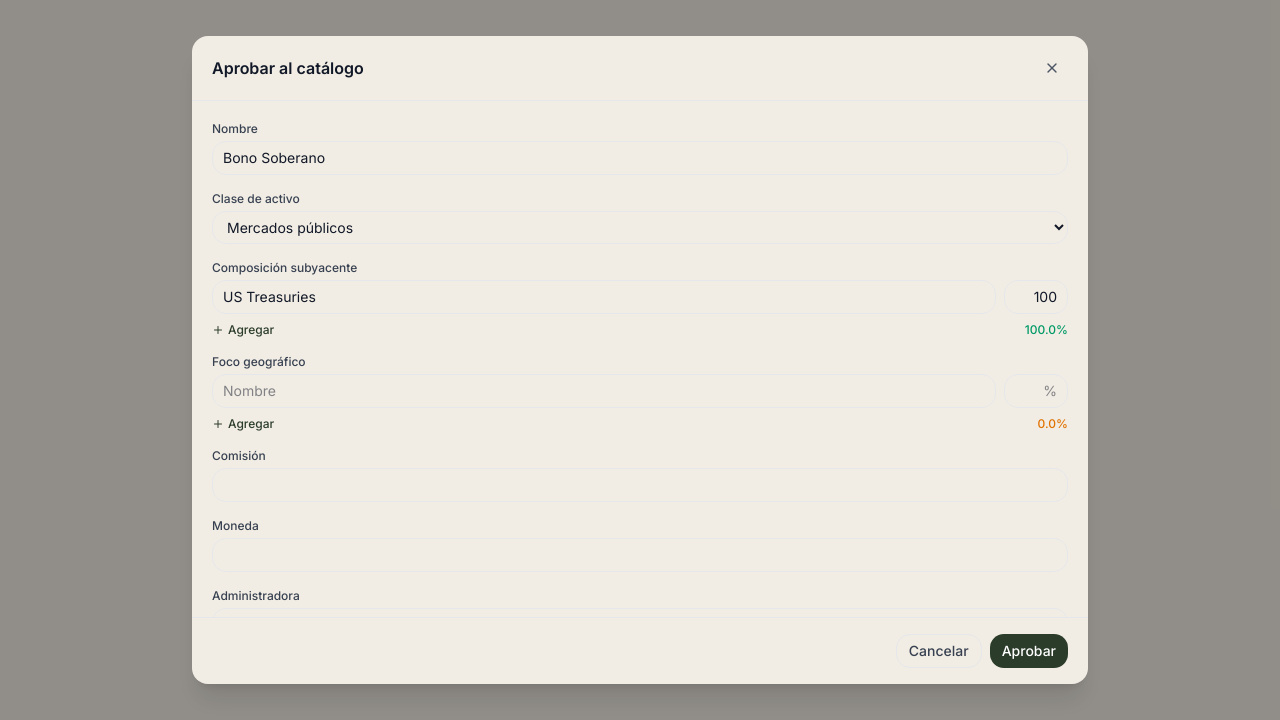
Test case: ApproveProductModal confirm › shows the duplicate message inline on a 409 response
Step 1. Click the button "Aprobar" → (1029, 651), box [990,634,1068,668]
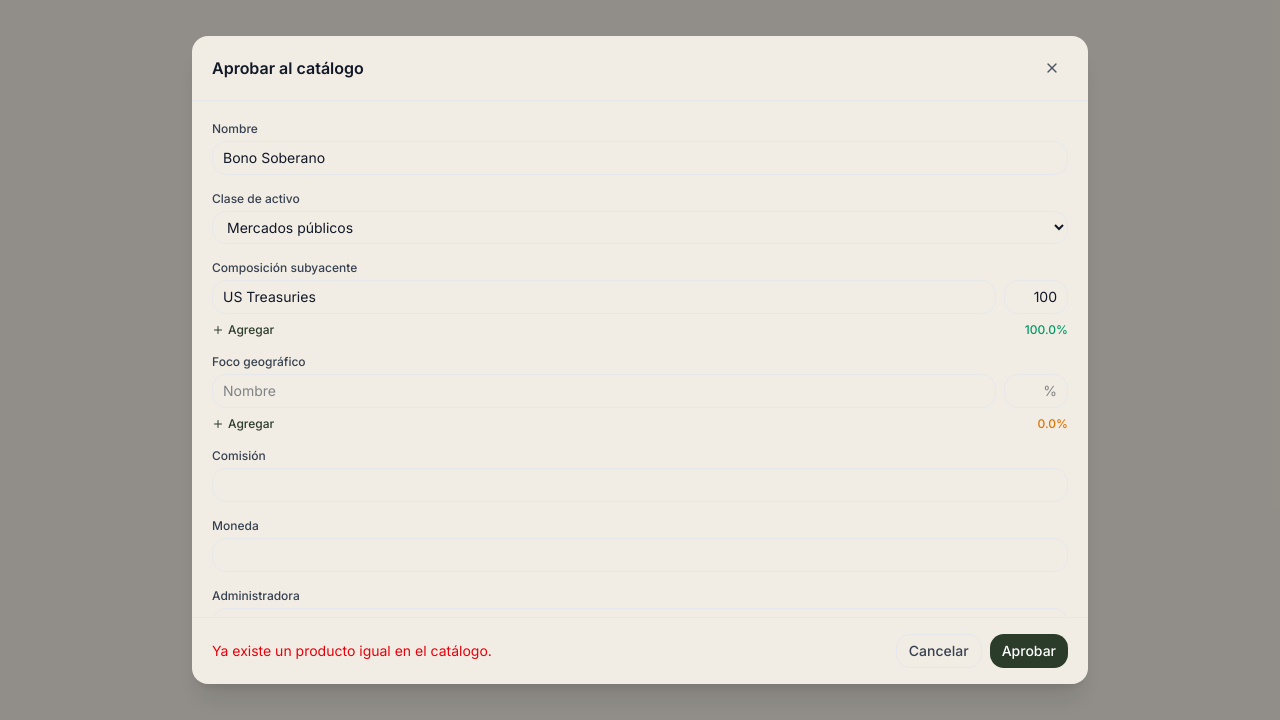
Result: the text "Ya existe un producto igual en el catálogo." is shown at [212,641,492,661]
